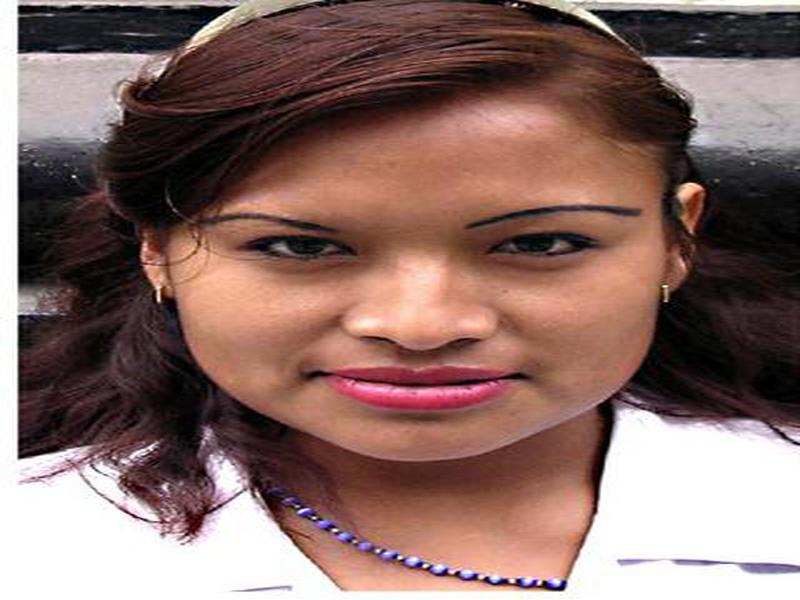without_mask: (159, 119, 659, 467)
